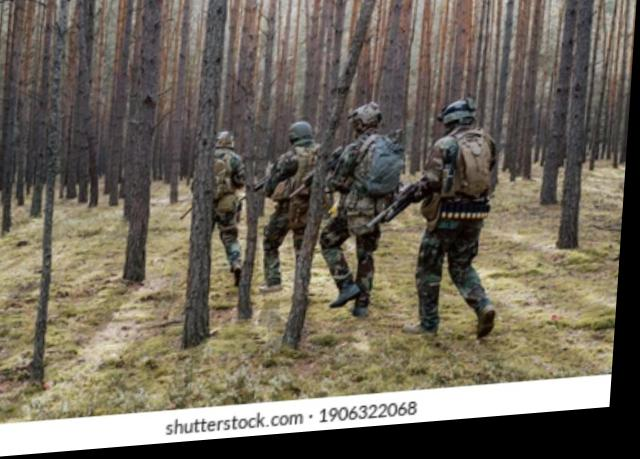other: (411, 98, 513, 342), (325, 107, 402, 324), (257, 114, 337, 300), (199, 132, 256, 308)
